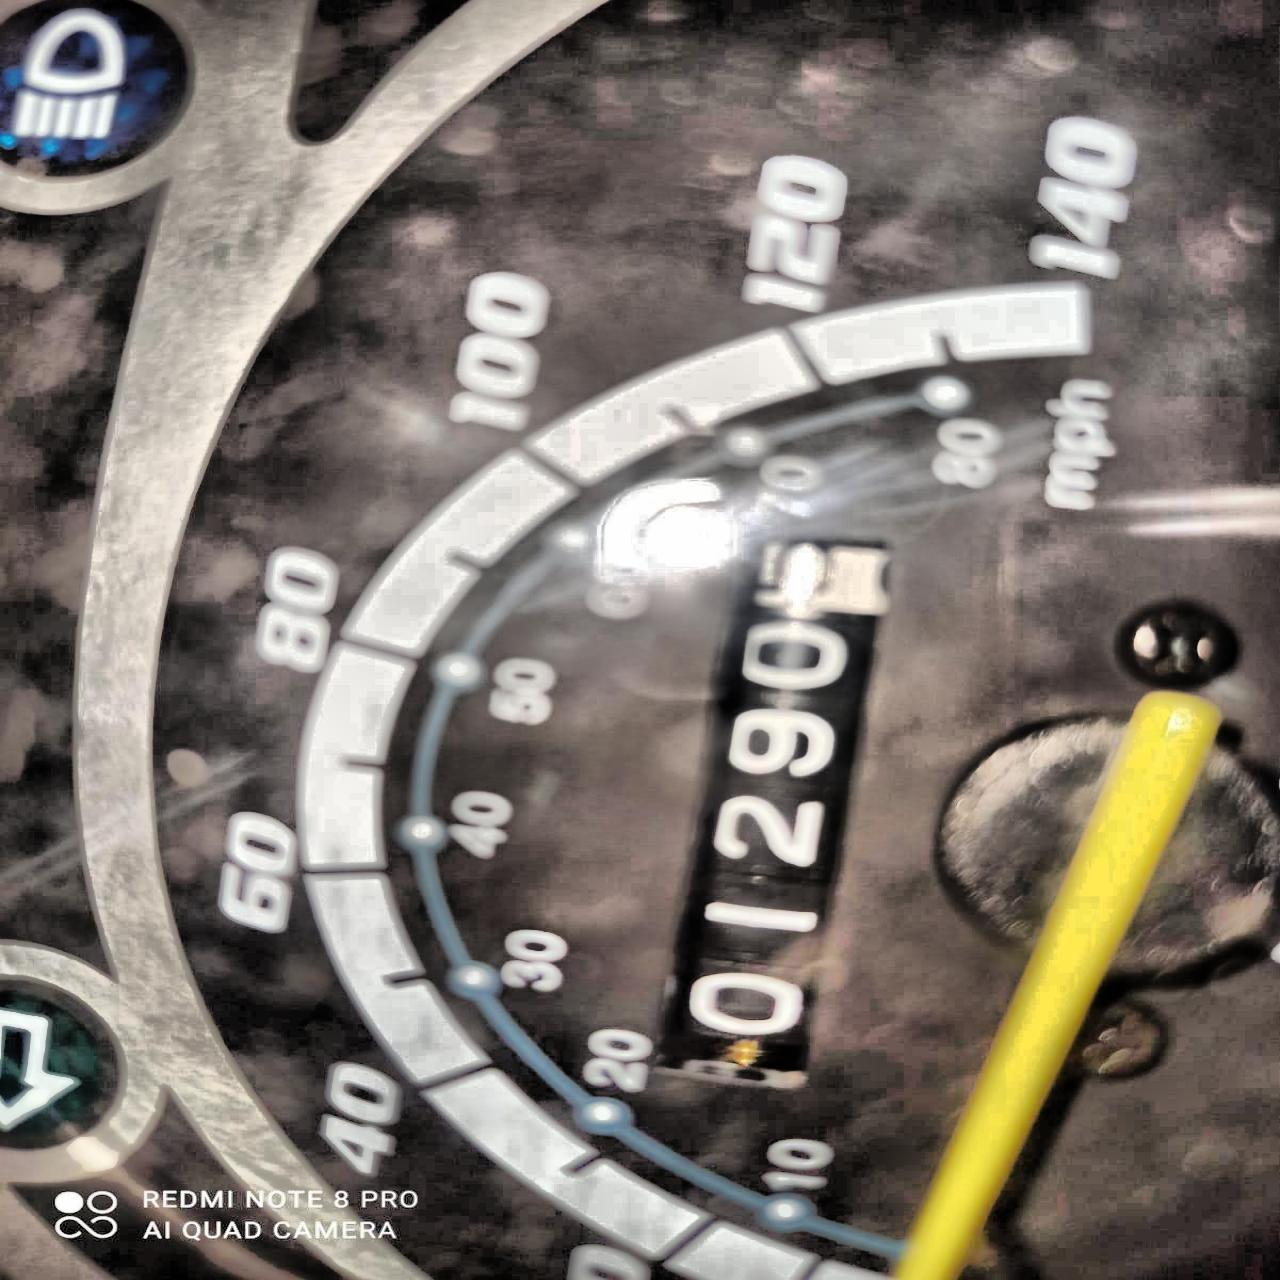0: (680, 968, 831, 1047), (719, 619, 873, 693)
1: (669, 896, 858, 951)
2: (703, 799, 839, 878)
5: (735, 529, 851, 606)
9: (712, 708, 858, 782)
odometer: (654, 519, 897, 1095)
